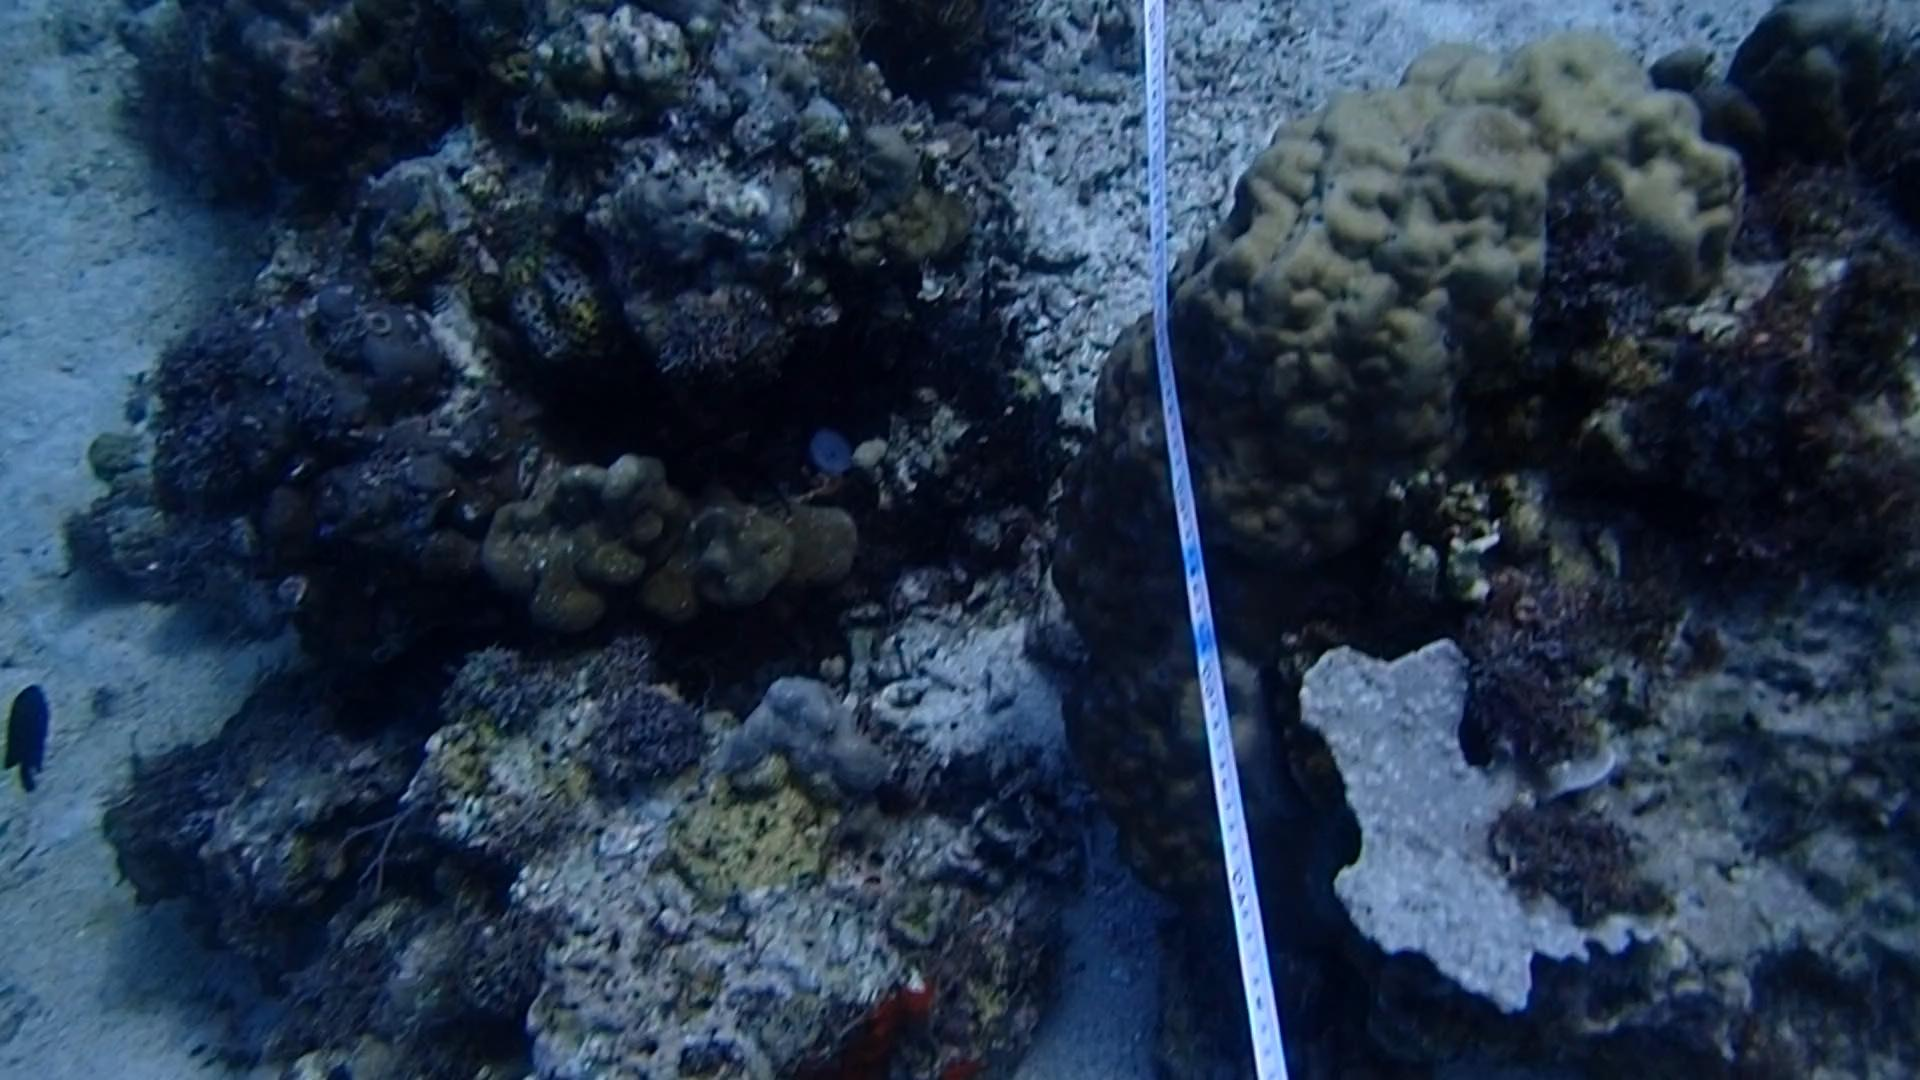Dark Fish: (4, 665, 55, 804)
